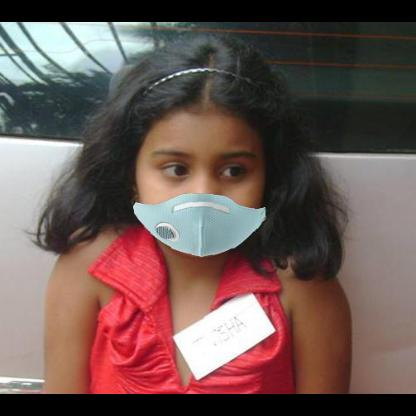FFP Mask: (132, 88, 274, 252)
